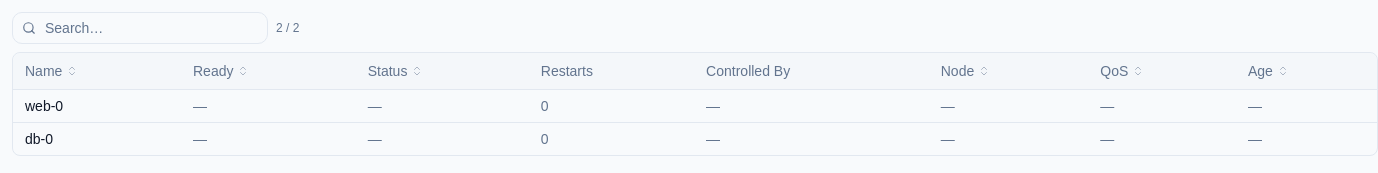
Scenario: ResourceTable › filters rows by name
Expected: the text "web-0" is shown, [25,98,63,114]
Expected: the text "db-0" is shown, [25,130,53,146]
Type "web" into the field named "Search resources".
click(140, 28); type("web")  # box [12,12,268,44]
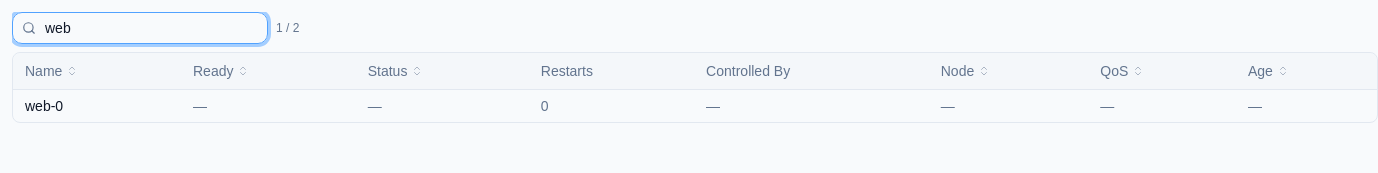
Expected: the text "web-0" is shown, [25,98,63,114]
Expected: the text "db-0" is gone
